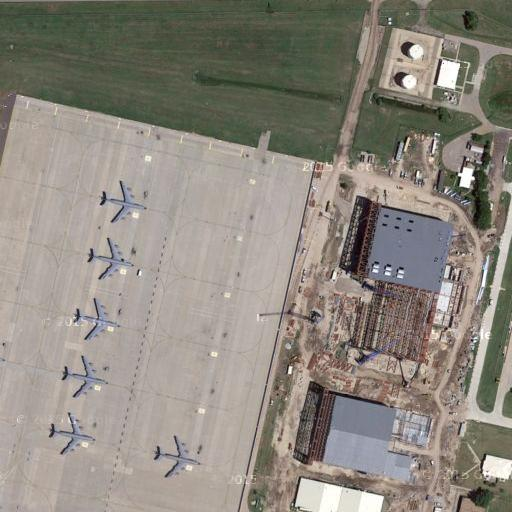KC-135: (151, 431, 205, 482), (83, 234, 139, 282), (96, 177, 150, 226), (56, 356, 114, 399), (45, 411, 98, 456), (71, 297, 120, 344)
